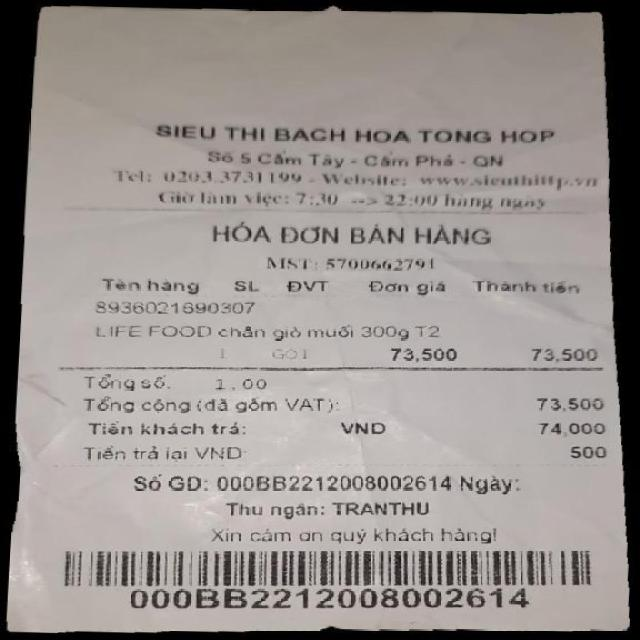Store_Name: (148, 116, 567, 147)
amount_number: (531, 392, 609, 415)
label_total: (78, 392, 193, 418)
